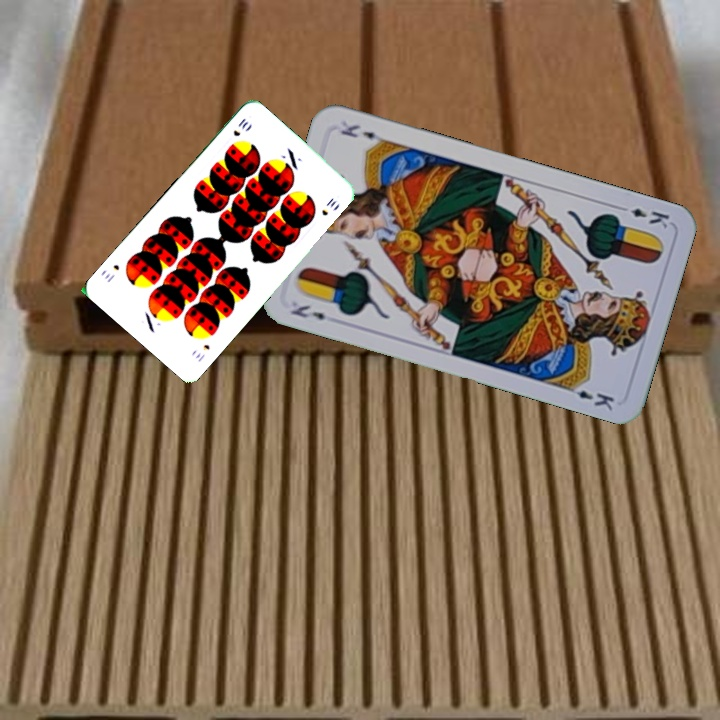EK: (614, 201, 672, 231), (286, 300, 328, 323)
S10: (229, 114, 251, 139), (191, 340, 212, 365)
